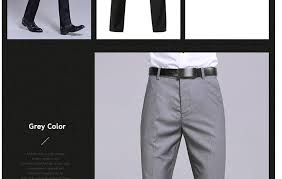F_belt: (142, 61, 224, 82)
